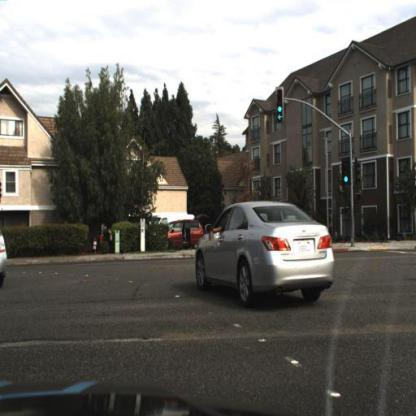car: (196, 199, 339, 307), (161, 217, 205, 250)
trafficLight: (341, 152, 354, 194), (277, 85, 286, 125), (6, 177, 18, 200)
